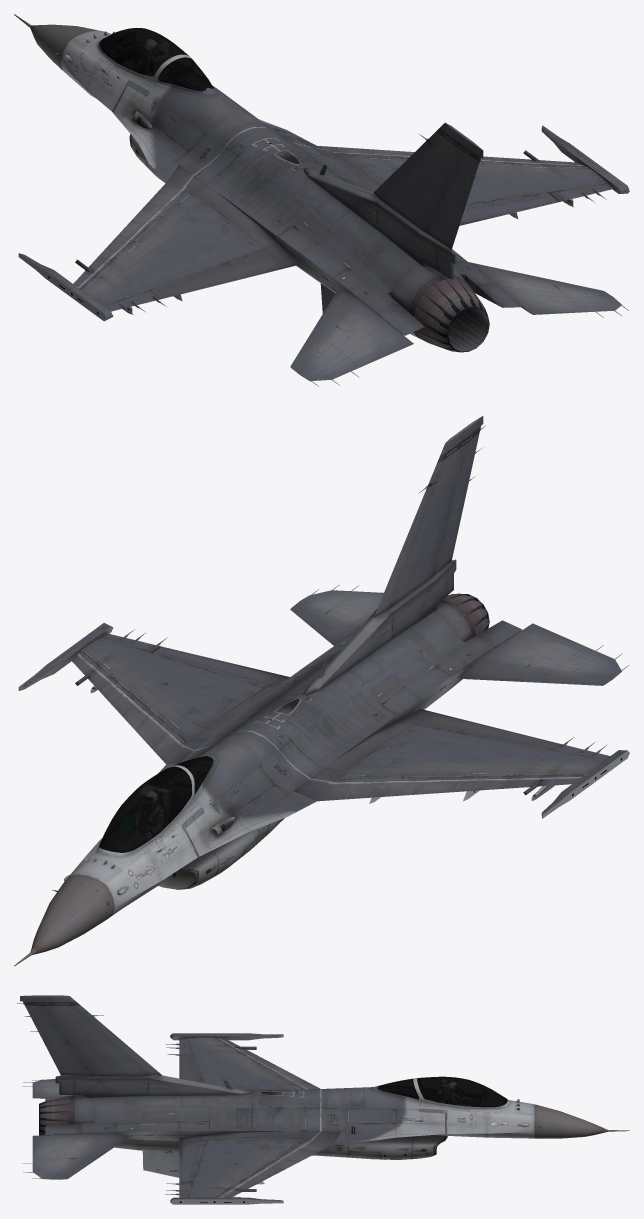
Rendered from F16_jet.glb.
3 renders of one model, top to bottom at view 1: azimuth 30°, elevation 25°; view 2: azimuth 150°, elevation 25°; view 3: azimuth 270°, elevation 25°, orthographic. The views are drawn at different scales.
Visible parts, largest first — view 1: LOD0_0, ElevatorL01_16, EngineL01_17, ElevatorR01_7, AileronL01_9, Glass_Canopy01_2, VoletL01_15, RudderL01_18, AileronR01_8, VoletR01_14, Canopy01_1, Glass01_5 (+3 smaller); view 2: LOD0_0, ElevatorL01_16, Glass_Canopy01_2, VoletL01_15, VoletR01_14, ElevatorR01_7, AileronL01_9, AileronR01_8, RudderL01_18, Canopy01_1, Pilot_4, EngineL01_17; view 3: LOD0_0, ElevatorR01_7, Glass_Canopy01_2, RudderL01_18, VoletR01_14, AileronR01_8, Canopy01_1, EngineL01_17, VoletL01_15, ElevatorL01_16, AileronL01_9, Glass01_5 (+1 smaller).
Boxes of the visible parts, bbox=[...] form: LOD0_0: bbox=[14, 14, 629, 340]; ElevatorL01_16: bbox=[290, 288, 413, 386]; EngineL01_17: bbox=[414, 279, 489, 352]; ElevatorR01_7: bbox=[468, 262, 628, 317]; AileronL01_9: bbox=[150, 244, 300, 299]; Glass_Canopy01_2: bbox=[99, 28, 190, 76]; VoletL01_15: bbox=[73, 182, 186, 289]; RudderL01_18: bbox=[425, 149, 485, 249]; AileronR01_8: bbox=[459, 192, 560, 225]; VoletR01_14: bbox=[318, 146, 585, 166]; Canopy01_1: bbox=[86, 36, 192, 92]; Glass01_5: bbox=[158, 57, 213, 91]; LOD0_0: bbox=[14, 416, 629, 966]; ElevatorL01_16: bbox=[457, 623, 628, 685]; Glass_Canopy01_2: bbox=[99, 766, 191, 852]; VoletL01_15: bbox=[317, 774, 585, 801]; VoletR01_14: bbox=[71, 651, 187, 764]; ElevatorR01_7: bbox=[290, 584, 383, 645]; AileronL01_9: bbox=[397, 709, 559, 749]; AileronR01_8: bbox=[150, 646, 289, 690]; RudderL01_18: bbox=[433, 426, 485, 576]; Canopy01_1: bbox=[86, 765, 205, 866]; Pilot_4: bbox=[136, 791, 163, 840]; EngineL01_17: bbox=[443, 593, 489, 635]; LOD0_0: bbox=[20, 995, 629, 1204]; ElevatorR01_7: bbox=[22, 1133, 130, 1179]; Glass_Canopy01_2: bbox=[417, 1076, 507, 1107]; RudderL01_18: bbox=[17, 1001, 90, 1075]; VoletR01_14: bbox=[215, 1139, 333, 1197]; AileronR01_8: bbox=[179, 1135, 209, 1182]; Canopy01_1: bbox=[409, 1078, 513, 1113]; EngineL01_17: bbox=[39, 1096, 69, 1135]; VoletL01_15: bbox=[215, 1038, 320, 1089]; ElevatorL01_16: bbox=[22, 1079, 73, 1098]; AileronL01_9: bbox=[179, 1055, 203, 1082]; Glass01_5: bbox=[378, 1078, 418, 1099].
Size of the model in its own units: 5.83 by 2.82 by 9.14.
Materials: 4 (3 with a texture image).
